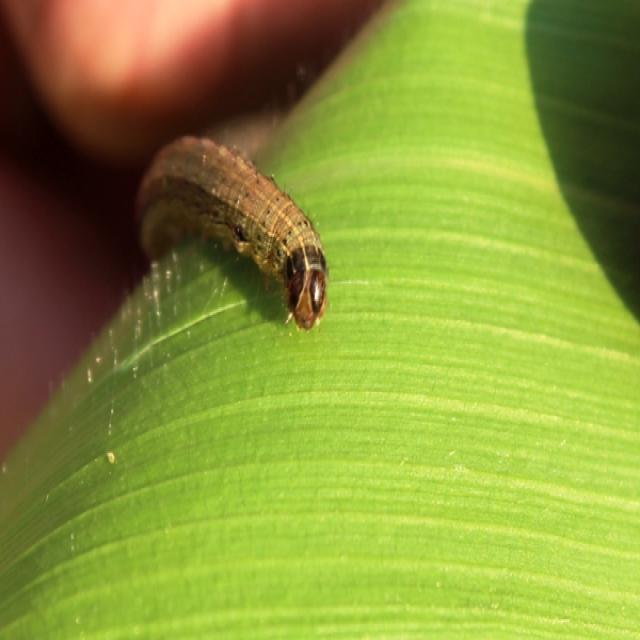Fall-armyworm: (126, 132, 338, 337)
